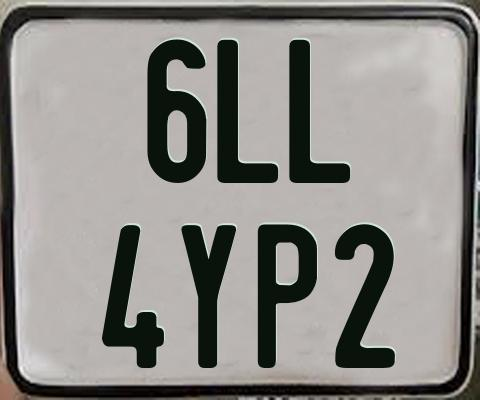2: (335, 224, 401, 369)
4: (101, 225, 165, 373)
6: (146, 38, 209, 183)
L: (214, 38, 281, 184), (287, 40, 352, 184)
P: (255, 222, 317, 368)
Y: (180, 222, 235, 365)
